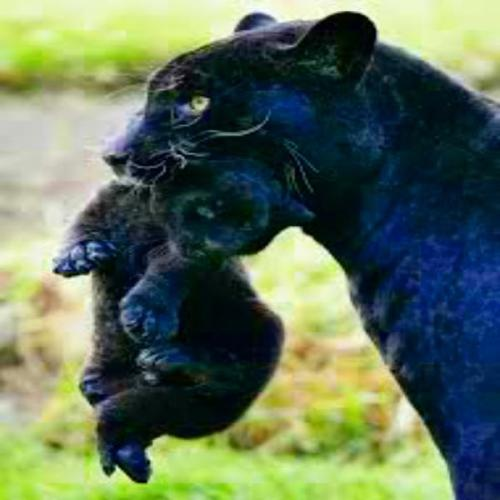panther-endangered: (102, 9, 500, 499), (49, 140, 315, 488)
